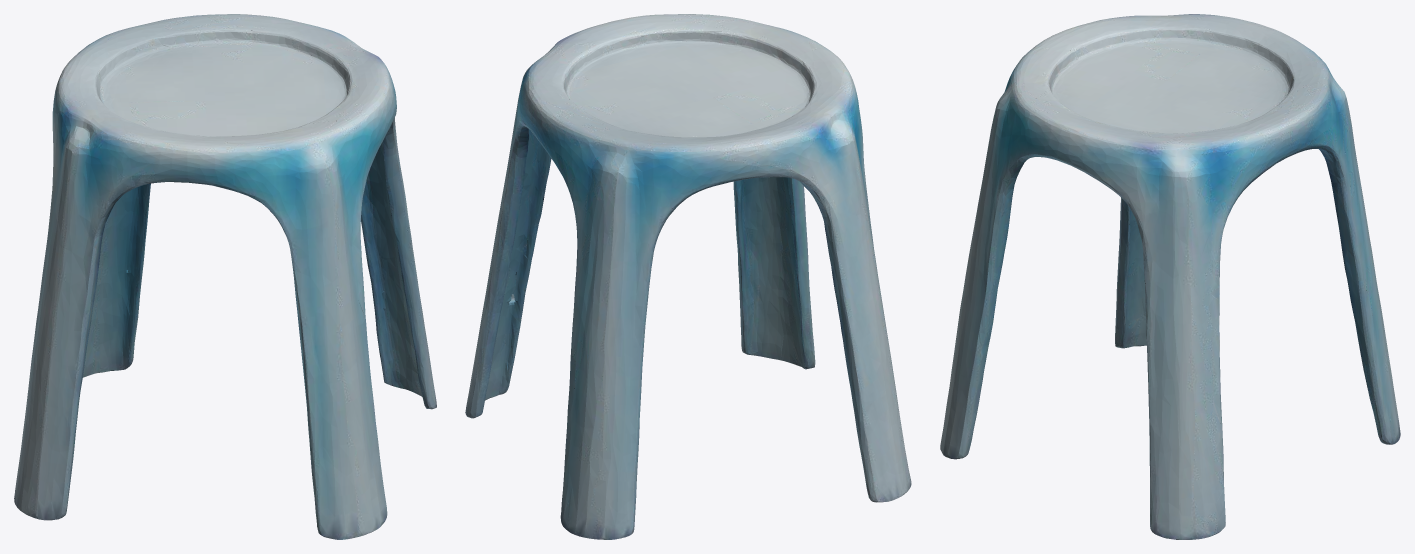
The model's file is blue_plastic_stool_in_the_middle_000.glb.
The picture shows the model from 3 angles, left to right: view 1: azimuth 30°, elevation 25°; view 2: azimuth 150°, elevation 25°; view 3: azimuth 270°, elevation 25°; orthographic projection. The views are drawn at different scales.
Visible parts, largest first — view 1: phase2_final_blue_plastic_stool_in_the_middle_000.obj; view 2: phase2_final_blue_plastic_stool_in_the_middle_000.obj; view 3: phase2_final_blue_plastic_stool_in_the_middle_000.obj.
Boxes of the visible parts, x1,y1,x2,y2 form: phase2_final_blue_plastic_stool_in_the_middle_000.obj: [14, 14, 436, 539]; phase2_final_blue_plastic_stool_in_the_middle_000.obj: [465, 14, 911, 539]; phase2_final_blue_plastic_stool_in_the_middle_000.obj: [940, 14, 1400, 539].
Size of the model in its own units: 0.1904 by 0.1622 by 0.1854.
1 material, 1 textured.
